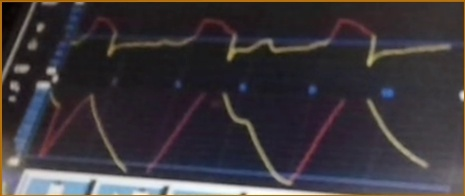Ineffective_effort Flow: (69, 10, 448, 69)
Ineffective_effort Volume: (38, 90, 428, 187)
